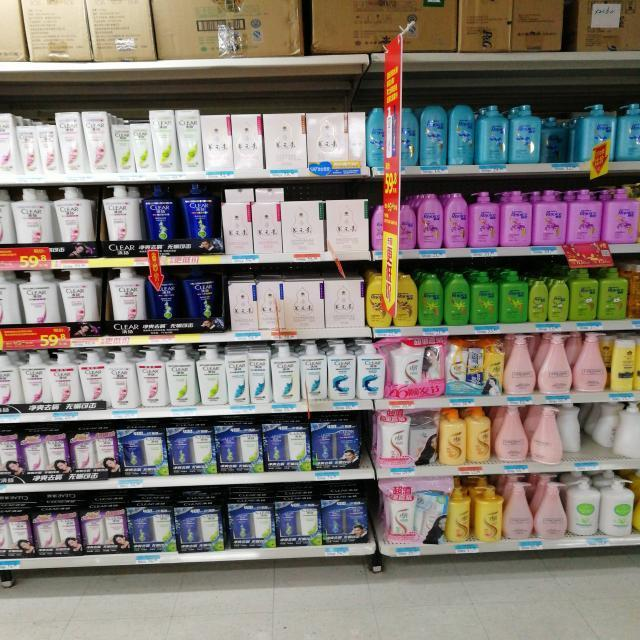Imprecise: (541, 106, 582, 164), (560, 404, 588, 464)
